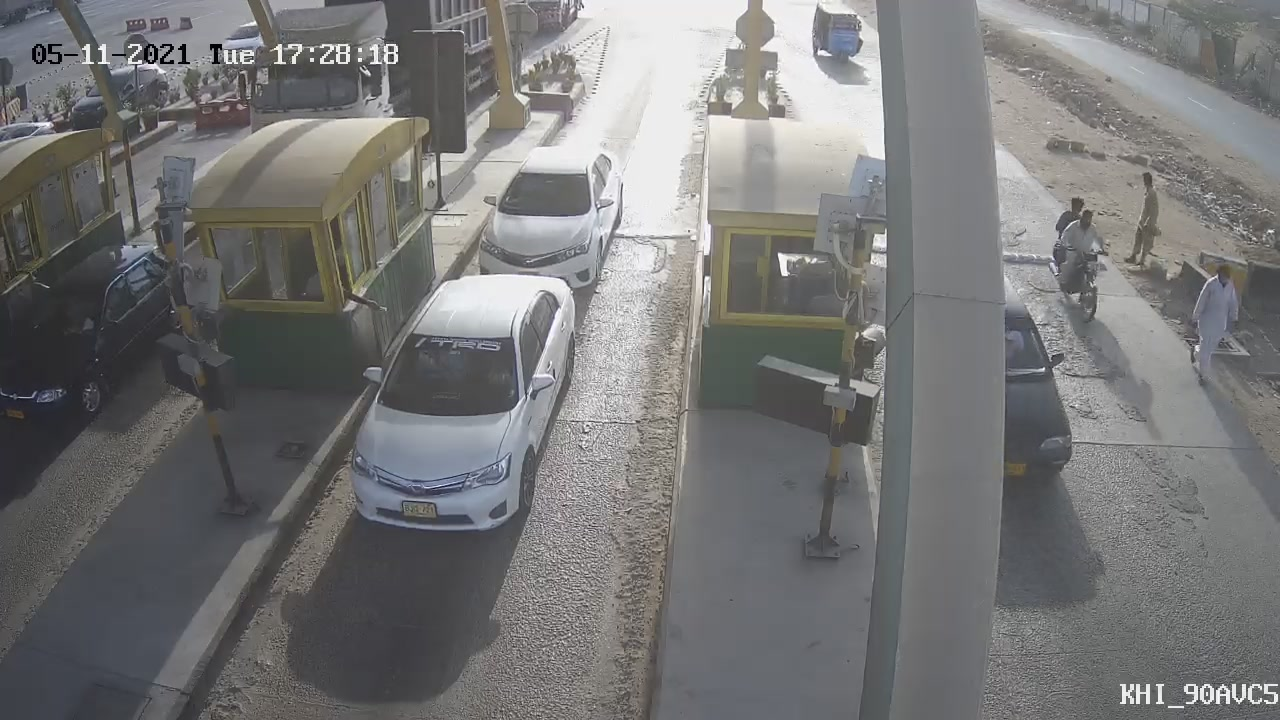F1: (326, 255, 594, 562), (463, 120, 636, 309)
